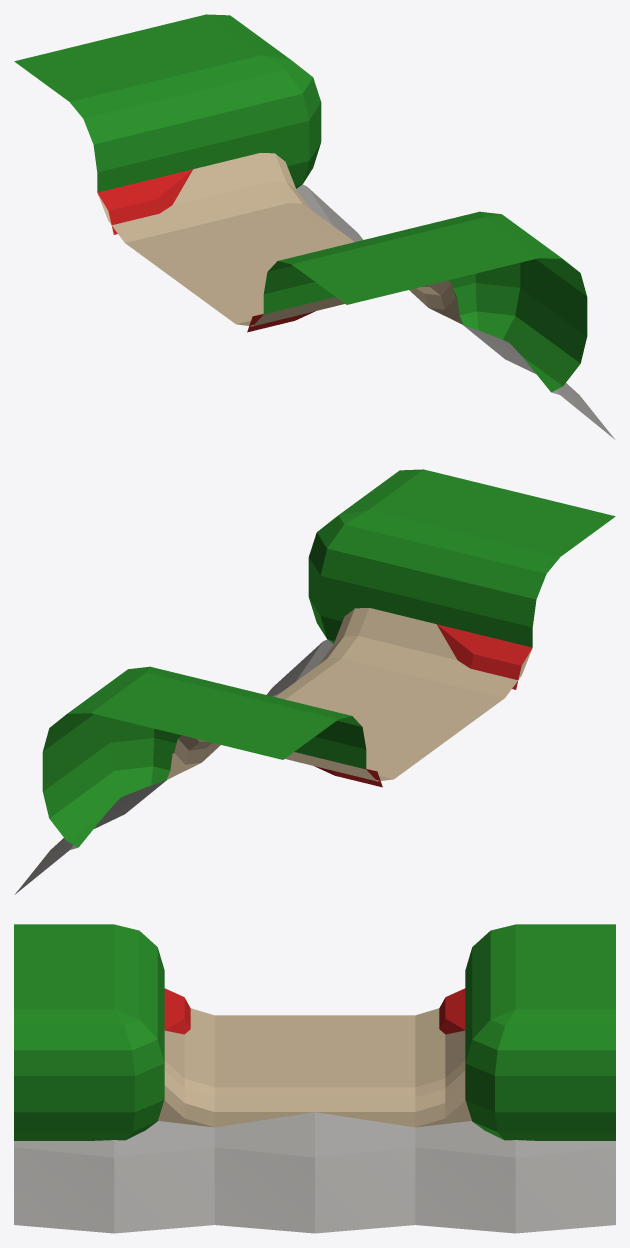
Rendered from Track_Cliff_Edge_Striped_1_Tall_Single.obj.
3 views of the same model, one above another, from view 1: azimuth 30°, elevation 25°; view 2: azimuth 150°, elevation 25°; view 3: azimuth 270°, elevation 25° (orthographic). The views are drawn at different scales.
Visible parts, largest first — view 1: Grass, Dirt, object2, Rock; view 2: Grass, Dirt, object1, Rock; view 3: Grass, Rock, Dirt, object1, object2.
Boxes of the visible parts, box(x1,y1,x2,y2) form: Grass: box(14, 14, 587, 392); Dirt: box(97, 153, 462, 326); object2: box(97, 169, 192, 234); Rock: box(296, 184, 615, 439); Grass: box(42, 469, 615, 847); Dirt: box(167, 608, 532, 781); object1: box(437, 624, 532, 689); Rock: box(14, 639, 333, 894); Grass: box(14, 924, 615, 1140); Rock: box(14, 1112, 615, 1233); Dirt: box(158, 1008, 471, 1127); object1: box(164, 988, 190, 1034); object2: box(439, 988, 465, 1034).
Size of the model in its own units: 1.5 by 1 by 3.
